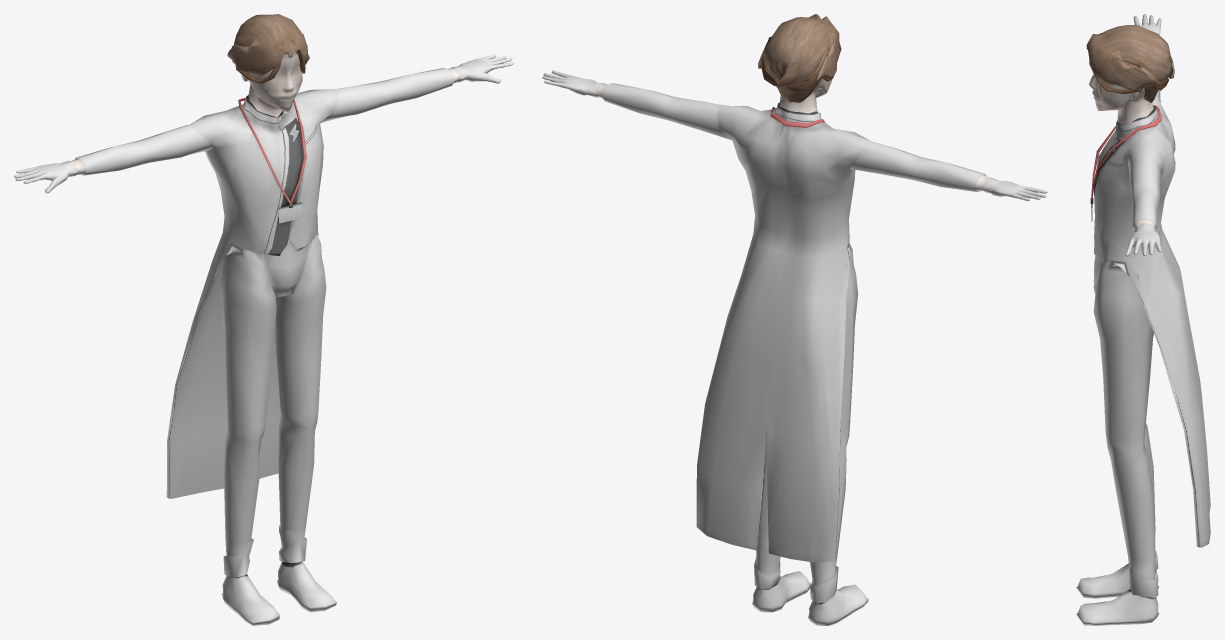
File: mob.man.fbx
3 views of the same model, side by side, from view 1: azimuth 30°, elevation 25°; view 2: azimuth 150°, elevation 25°; view 3: azimuth 270°, elevation 25° (orthographic). The views are drawn at different scales.
Visible parts, largest first — view 1: ChMD_WC_mob_male; view 2: ChMD_WC_mob_male; view 3: ChMD_WC_mob_male.
Part boxes in pixels (x1=…): ChMD_WC_mob_male: x1=14, y1=14, x2=513, y2=625; ChMD_WC_mob_male: x1=542, y1=14, x2=1047, y2=625; ChMD_WC_mob_male: x1=1076, y1=14, x2=1210, y2=625.
Bounding box in the file's own units: 154 × 172 × 36.43.
Materials: 1 (1 with a texture image).
